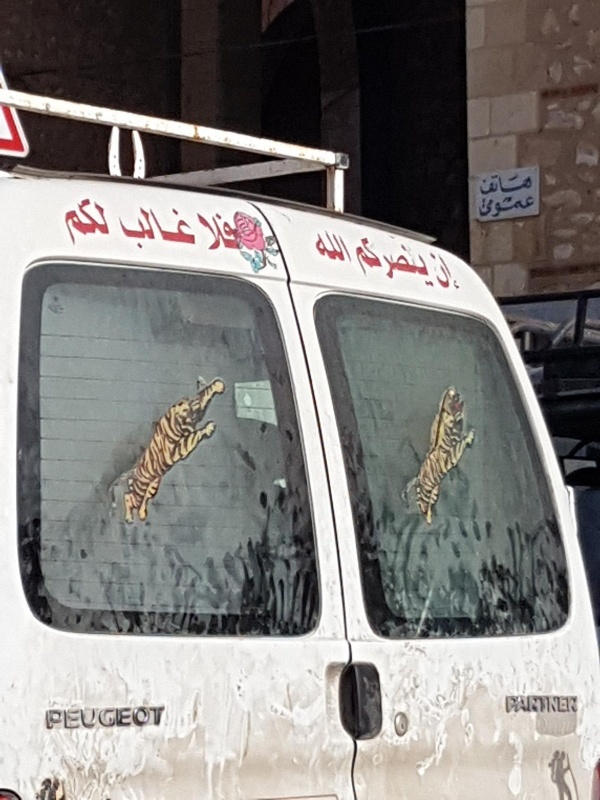text: (353, 235, 368, 290), (369, 235, 384, 290), (385, 235, 400, 290), (401, 235, 416, 290), (417, 235, 432, 290), (65, 197, 80, 246), (81, 197, 96, 246), (129, 204, 144, 252), (145, 204, 160, 252), (161, 204, 176, 252), (177, 204, 192, 252), (97, 197, 111, 246), (209, 207, 224, 251), (225, 207, 240, 251), (433, 250, 448, 292), (449, 250, 463, 292), (196, 207, 208, 251), (117, 204, 128, 252), (321, 230, 336, 264), (337, 230, 352, 264), (481, 192, 496, 220), (497, 192, 512, 220), (513, 192, 528, 220), (481, 172, 496, 195), (497, 172, 512, 195), (513, 172, 528, 195), (49, 706, 64, 729), (65, 706, 80, 729), (81, 706, 96, 729), (97, 706, 112, 729), (113, 706, 128, 729), (129, 706, 144, 729), (145, 706, 160, 729), (513, 694, 528, 714), (529, 694, 544, 714), (545, 694, 560, 714), (561, 694, 576, 714), (58, 197, 64, 246), (312, 230, 320, 264), (427, 250, 432, 292), (193, 204, 197, 252), (529, 192, 535, 220), (433, 235, 436, 290), (505, 694, 512, 714), (161, 706, 167, 729), (529, 172, 534, 195), (44, 706, 48, 729), (353, 230, 355, 264), (577, 694, 580, 714), (351, 235, 352, 290), (479, 192, 480, 220)
